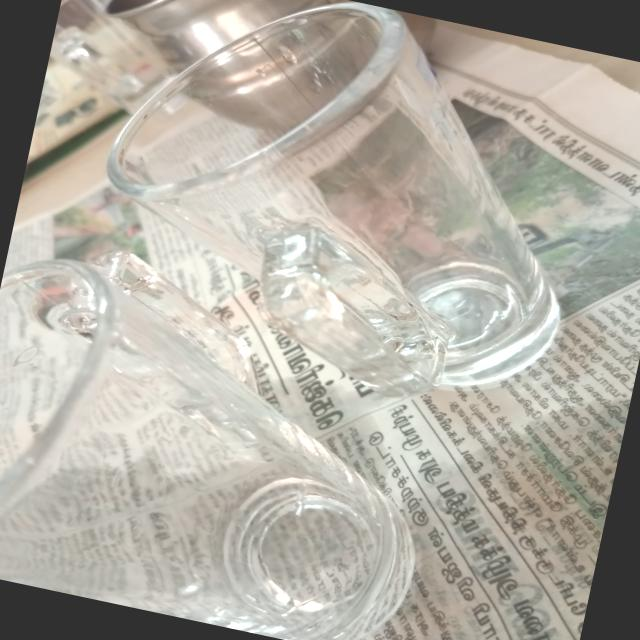glass-VX4N: (70, 0, 619, 428), (0, 225, 466, 640)
